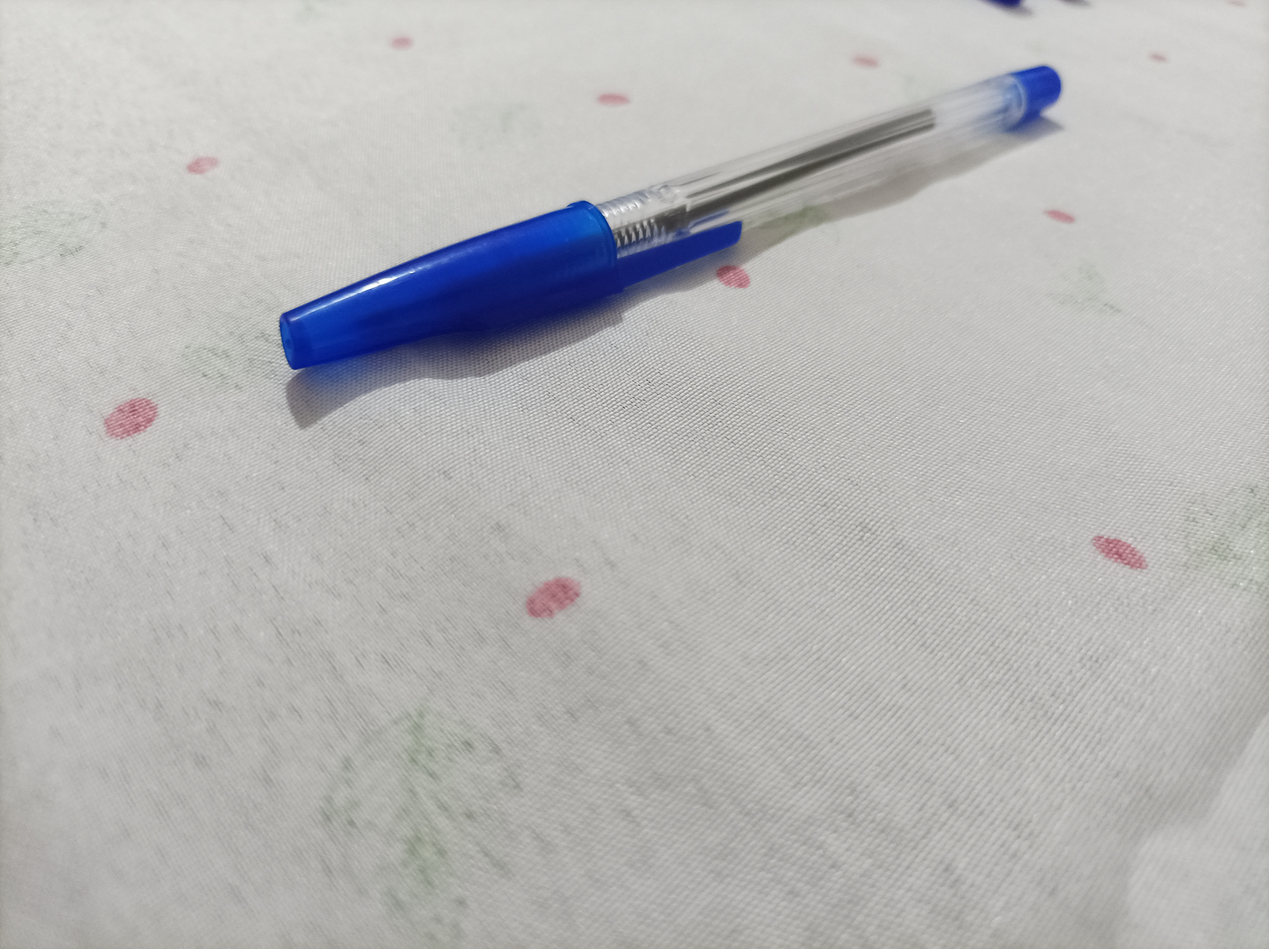plastic: (296, 57, 1057, 374)
